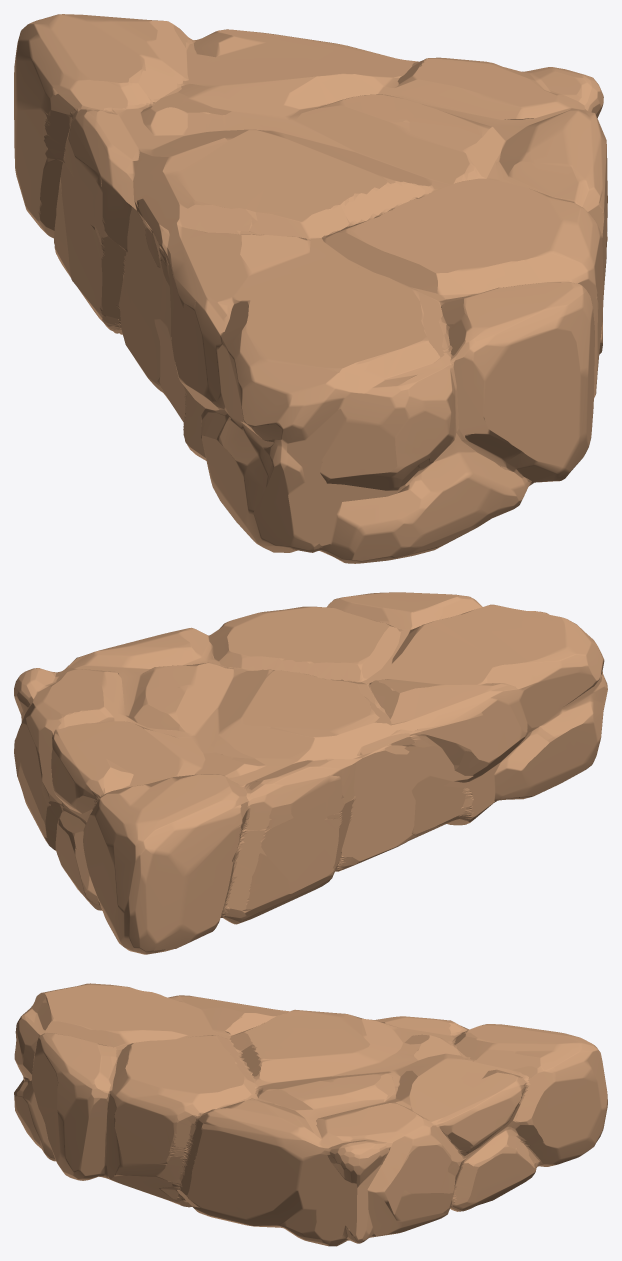
3 views of the same model, one above another, from view 1: azimuth 30°, elevation 25°; view 2: azimuth 150°, elevation 25°; view 3: azimuth 270°, elevation 25° (orthographic). The views are drawn at different scales.
Visible parts, largest first — view 1: Mesh_43_LOD0; view 2: Mesh_43_LOD0; view 3: Mesh_43_LOD0.
Part boxes in pixels (box(x1,y1,x2,y2)): Mesh_43_LOD0: box(14, 14, 607, 563); Mesh_43_LOD0: box(14, 592, 607, 954); Mesh_43_LOD0: box(14, 983, 607, 1246).
Size of what is drawn, in the model's own units: 2651 by 862 by 3829.
